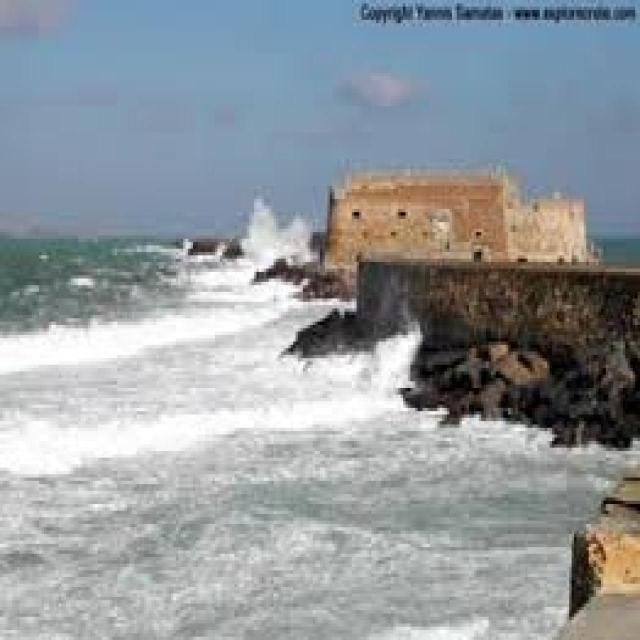Kules: (327, 160, 594, 284)
